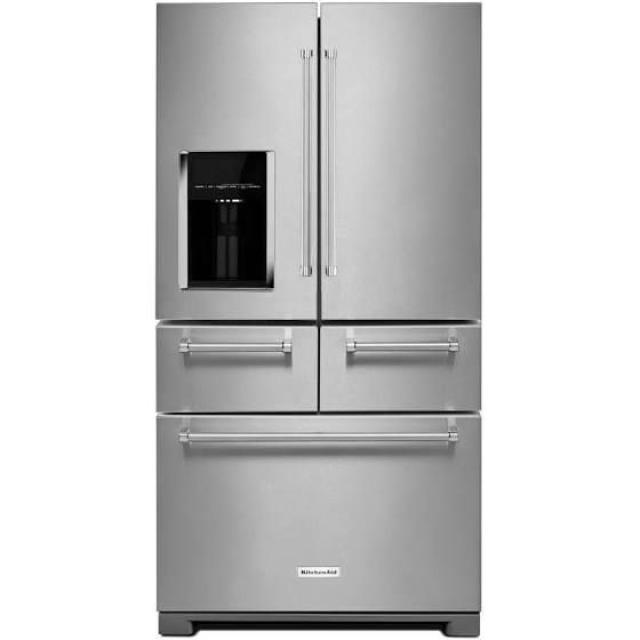obstacle: (153, 1, 484, 637)
